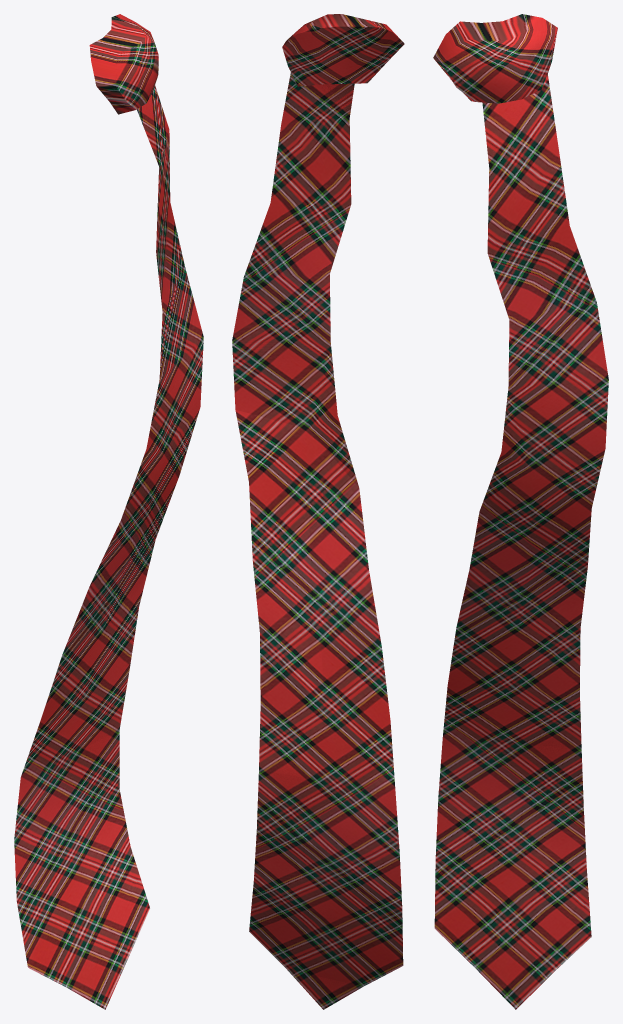
Rendered from Pose-10_Tie-1.fbx.
The picture shows the model from 3 angles, left to right: view 1: azimuth 30°, elevation 25°; view 2: azimuth 150°, elevation 25°; view 3: azimuth 330°, elevation 25°; orthographic projection.
Parts seen in each view (by area): view 1: Pose-10_Tie-1; view 2: Pose-10_Tie-1; view 3: Pose-10_Tie-1.
Part boxes in pixels (x1,y1,x2,y2): Pose-10_Tie-1: (14, 14, 203, 1009); Pose-10_Tie-1: (232, 14, 404, 1009); Pose-10_Tie-1: (433, 14, 608, 1009).
Size of the model in its own units: 8.83 by 46.56 by 5.79.
